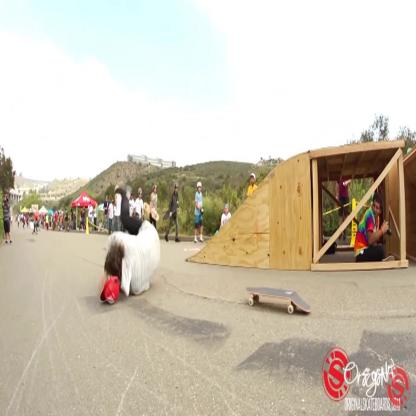Fall_Down: (98, 186, 161, 296)
